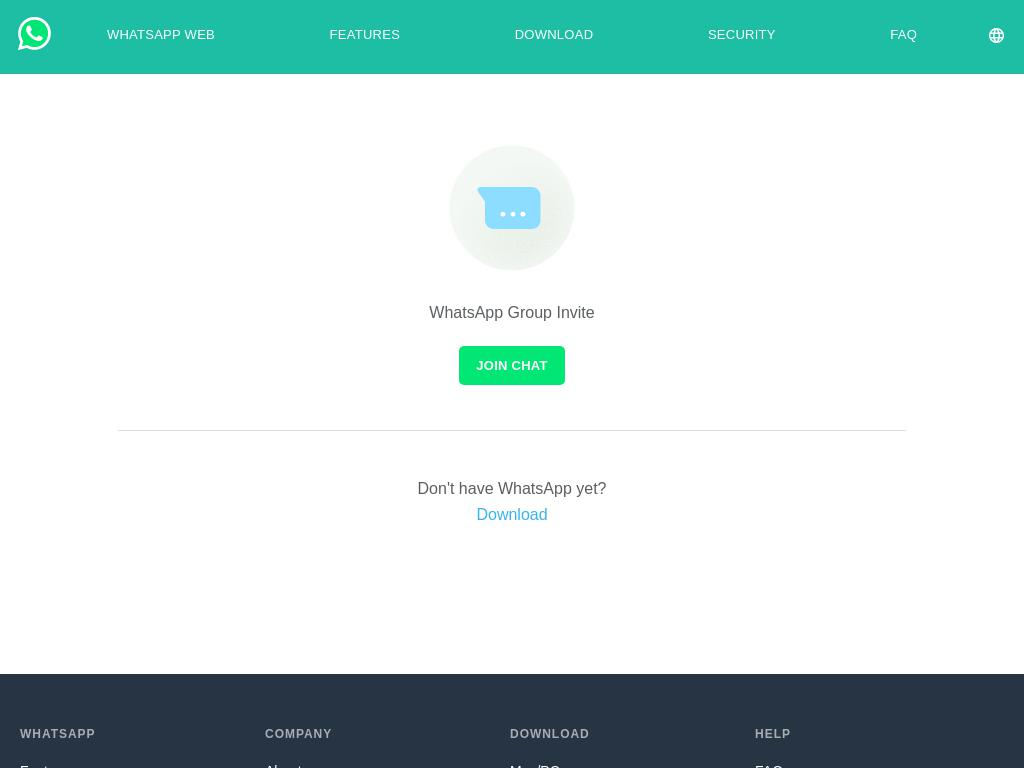button: (448, 144, 576, 272), (459, 346, 566, 385), (967, 6, 1024, 68)
heading: (118, 304, 906, 322), (20, 727, 242, 741), (265, 727, 487, 741), (510, 727, 732, 741), (755, 727, 977, 741)
image: (448, 144, 576, 272), (8, 7, 53, 62), (987, 26, 1006, 45)
link: (126, 45, 235, 65), (534, 45, 613, 65), (349, 45, 420, 65), (727, 45, 796, 65), (476, 506, 549, 523), (910, 45, 938, 65), (20, 763, 75, 768), (510, 763, 561, 768), (265, 763, 303, 768), (755, 763, 784, 768)
text: (417, 480, 606, 497)
